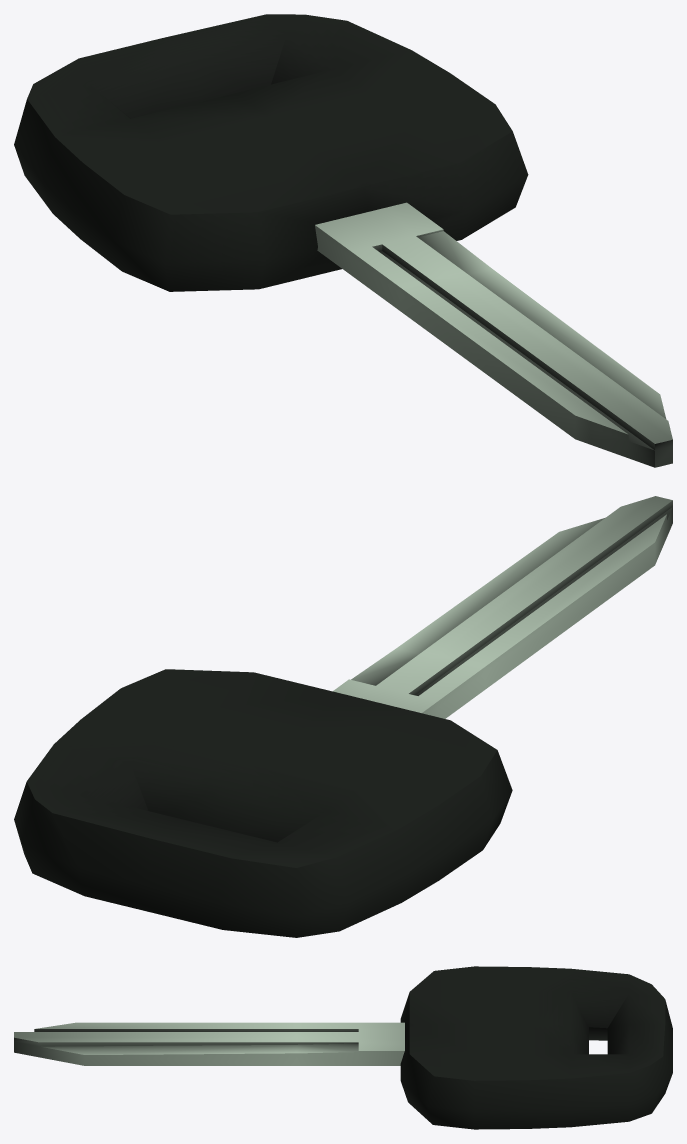
File: human-household-items-car-key_v1.glb
The picture shows the model from 3 angles, top to bottom: view 1: azimuth 30°, elevation 25°; view 2: azimuth 150°, elevation 25°; view 3: azimuth 270°, elevation 25°; orthographic projection. The views are drawn at different scales.
Visible parts, largest first — view 1: Car Key; view 2: Car Key; view 3: Car Key.
Part boxes in pixels (<box>): Car Key: <box>14,14,672,467</box>; Car Key: <box>14,496,672,937</box>; Car Key: <box>14,966,672,1129</box>.
Size of the model in its own units: 0.035 by 0.00644 by 0.08.
